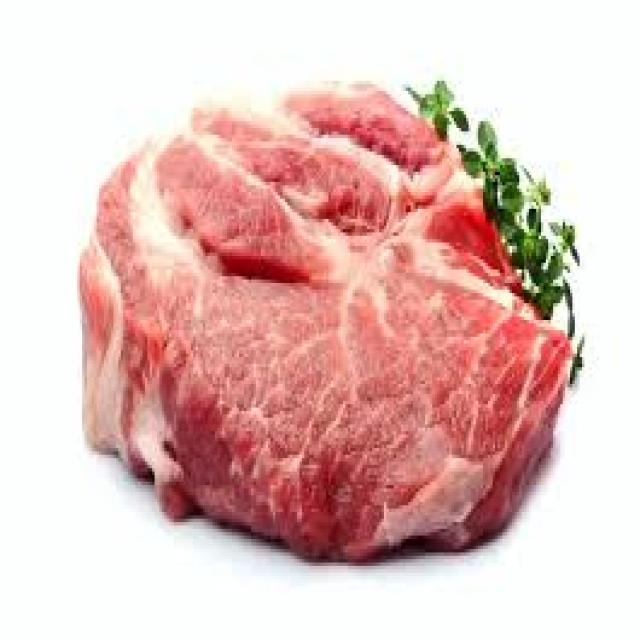Pork: (80, 84, 575, 561)
